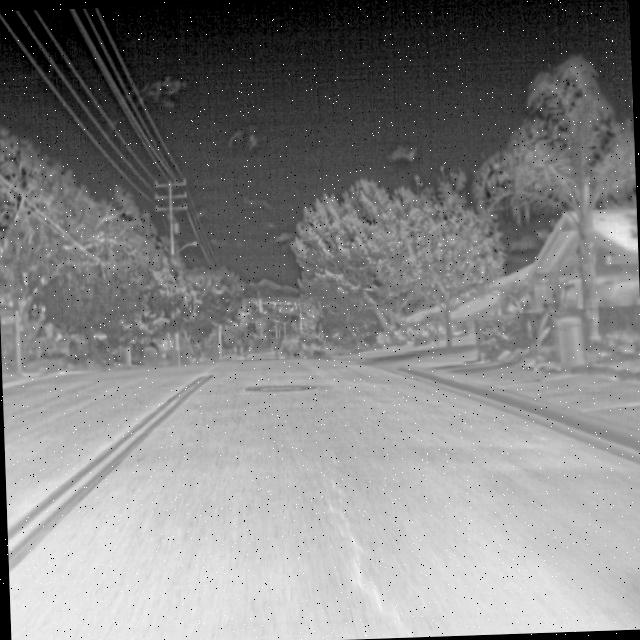Pedestrian: (525, 292, 564, 375)
